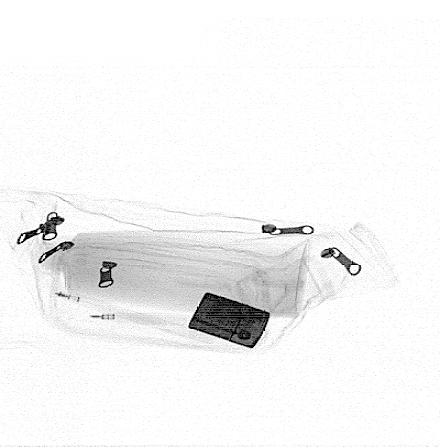Lighter: (186, 292, 271, 349)
